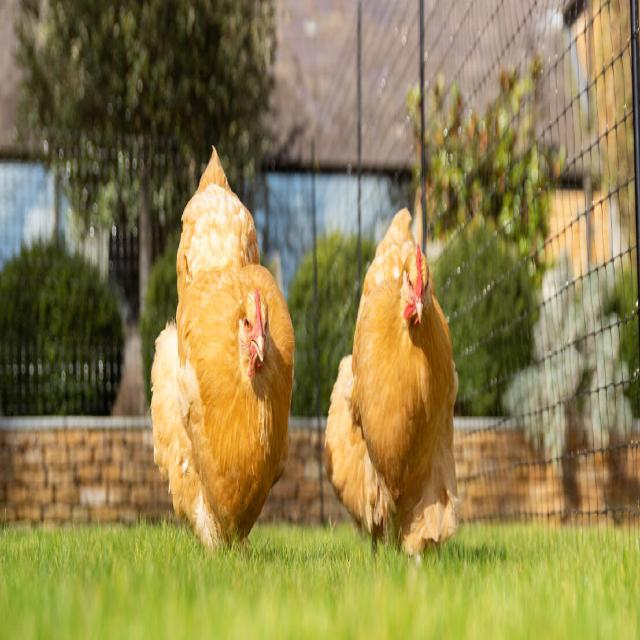chicken: (142, 135, 303, 568), (328, 142, 468, 586), (150, 151, 295, 556), (325, 209, 452, 557)
